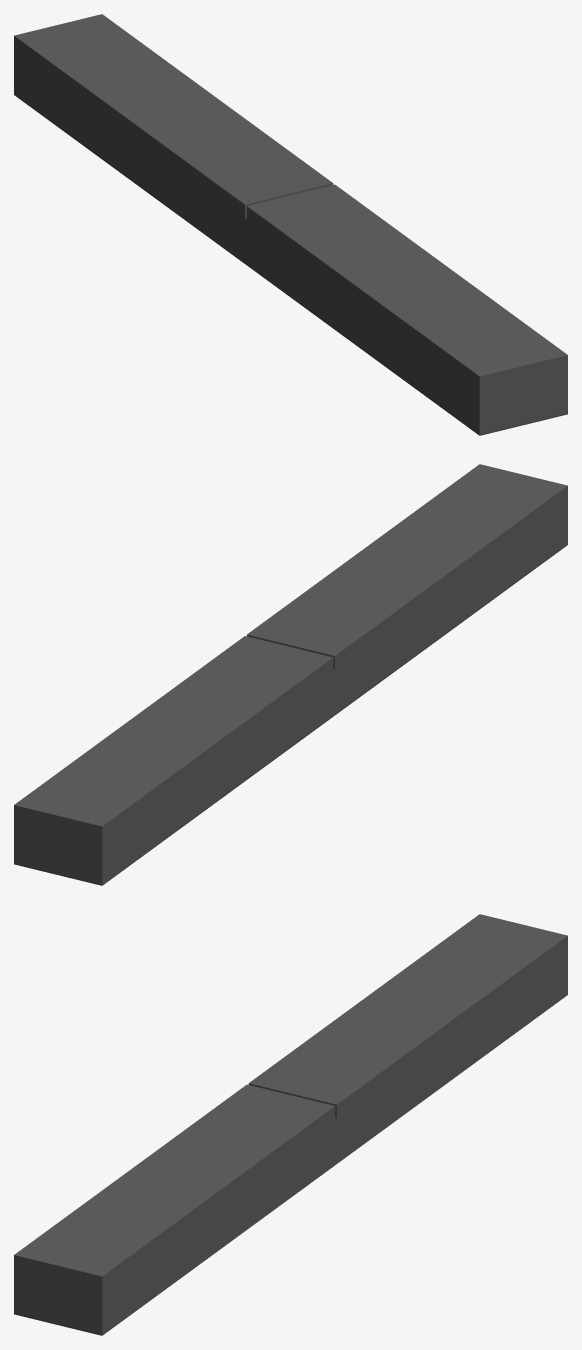
File: GrayCurb.obj
The picture shows the model from 3 angles, top to bottom: view 1: azimuth 30°, elevation 25°; view 2: azimuth 150°, elevation 25°; view 3: azimuth 330°, elevation 25°; orthographic projection.
Visible parts, largest first — view 1: Model; view 2: Model; view 3: Model.
Boxes of the visible parts, x1,y1,x2,y2 form: Model: (14, 14, 567, 435); Model: (14, 464, 567, 885); Model: (14, 914, 567, 1335).
Size of the model in its own units: 3.5 by 2.25 by 32.
1 material, 1 textured.
